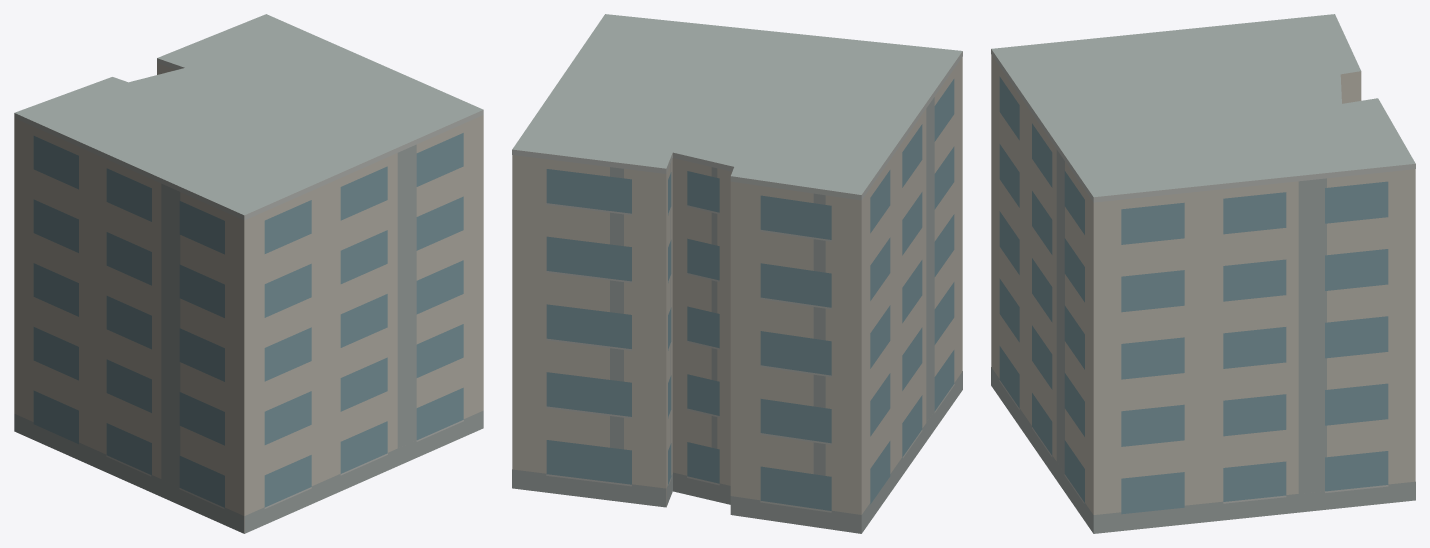
File: residential-1976b8e4-3c71-4dae-93b5-2834d01c5b43.glb
3 views of the same model, side by side, from view 1: azimuth 30°, elevation 25°; view 2: azimuth 150°, elevation 25°; view 3: azimuth 270°, elevation 25° (orthographic). The views are drawn at different scales.
Visible parts, largest first — view 1: residential-1976b8e4-3c71-4dae-93b5-2834d01c5b43.tmp; view 2: residential-1976b8e4-3c71-4dae-93b5-2834d01c5b43.tmp; view 3: residential-1976b8e4-3c71-4dae-93b5-2834d01c5b43.tmp.
Boxes of the visible parts, box(x1,y1,x2,y2) form: residential-1976b8e4-3c71-4dae-93b5-2834d01c5b43.tmp: box(14, 14, 483, 533); residential-1976b8e4-3c71-4dae-93b5-2834d01c5b43.tmp: box(512, 14, 962, 533); residential-1976b8e4-3c71-4dae-93b5-2834d01c5b43.tmp: box(991, 14, 1415, 533).
Bounding box in the file's own units: 17.81 × 15.25 × 17.44.
